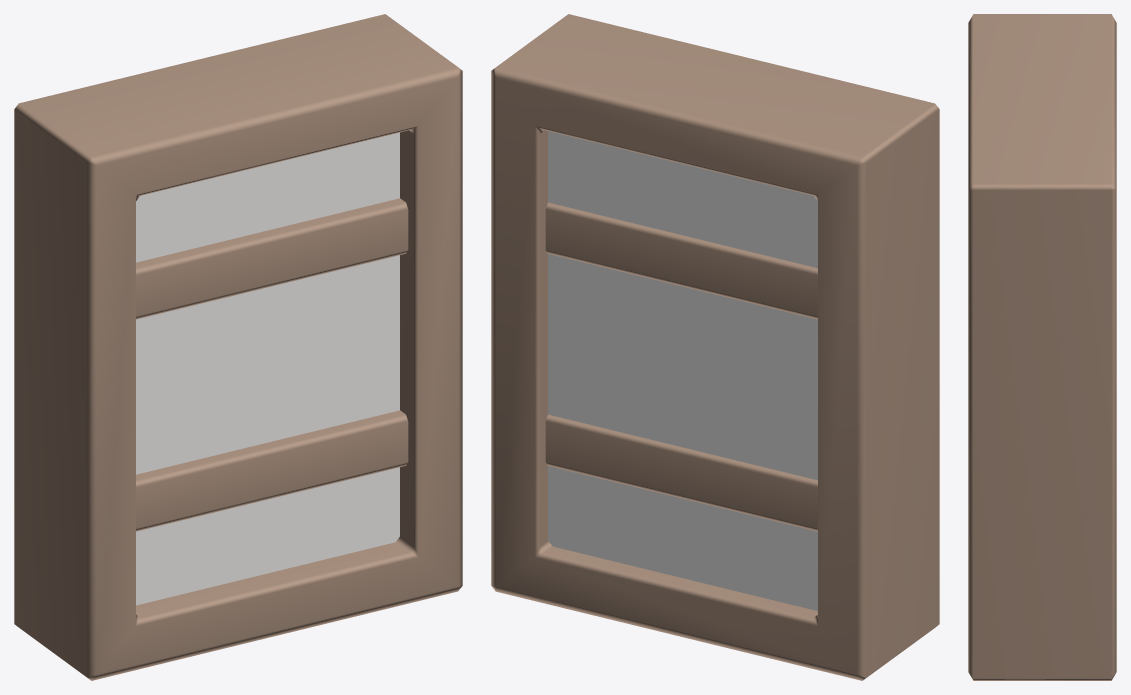
Rendered from Window_16.glb.
3 renders of one model, left to right at view 1: azimuth 30°, elevation 25°; view 2: azimuth 150°, elevation 25°; view 3: azimuth 270°, elevation 25°, orthographic. The views are drawn at different scales.
Visible parts, largest first — view 1: Window_16; view 2: Window_16; view 3: Window_16.
Boxes of the visible parts, x1,y1,x2,y2 form: Window_16: (14, 14, 462, 680); Window_16: (491, 14, 939, 680); Window_16: (968, 14, 1116, 680).
Bounding box in the file's own units: 1.56 × 2.07 × 0.5595.
Materials: 2 (2 with a texture image).
